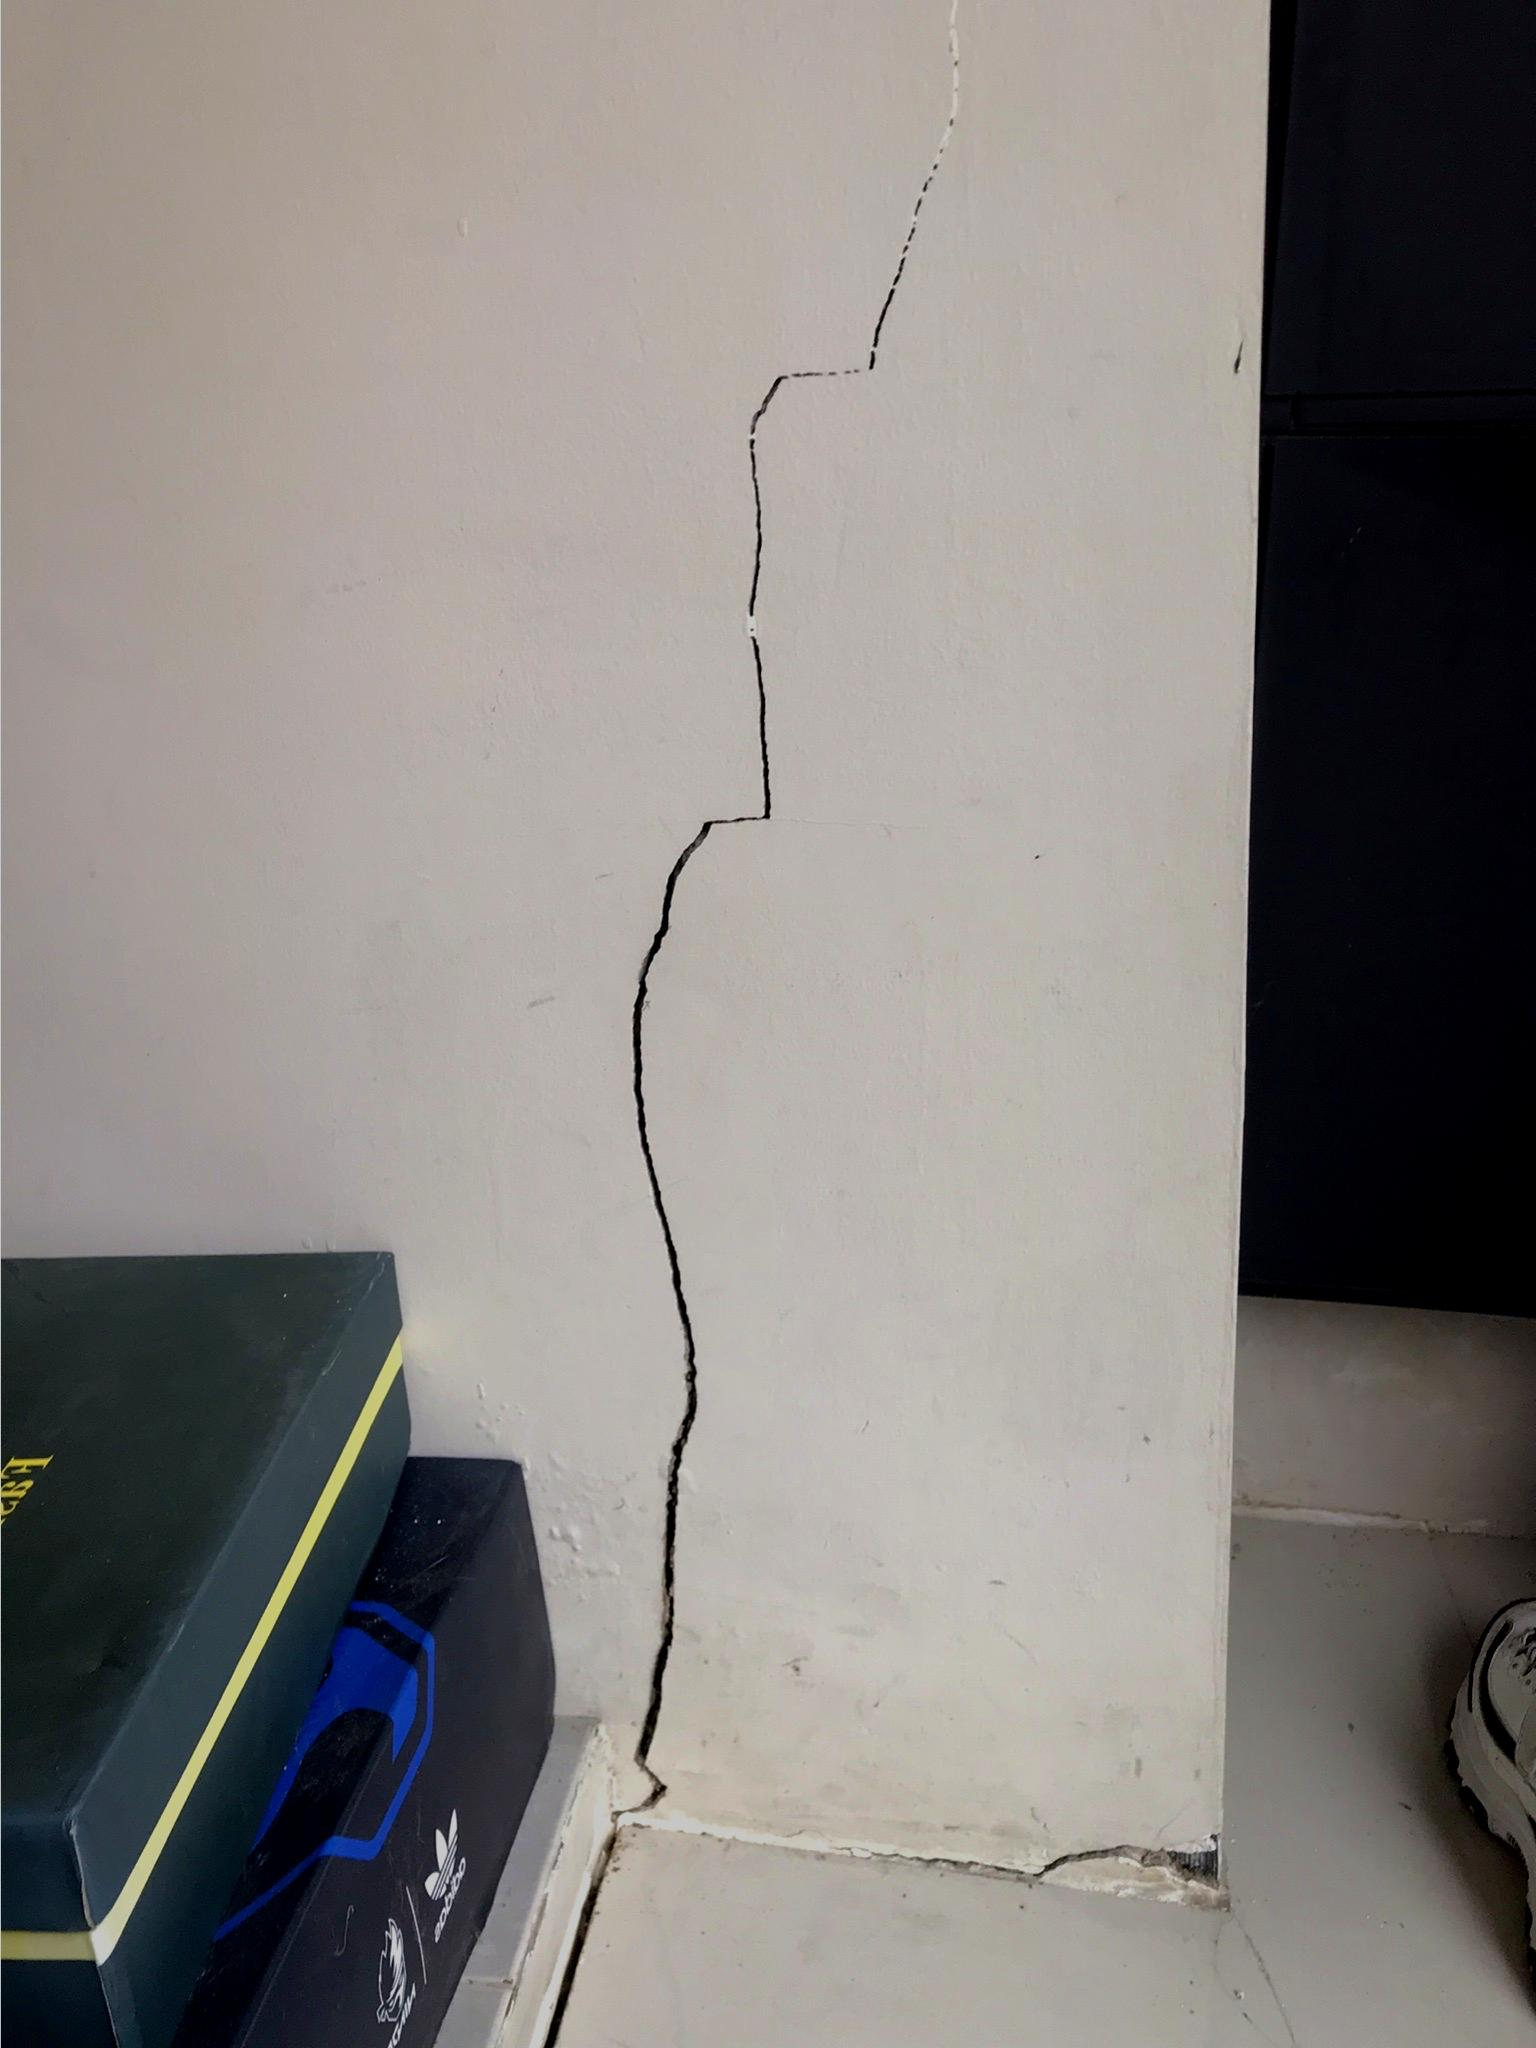High: (529, 6, 1016, 2048)
